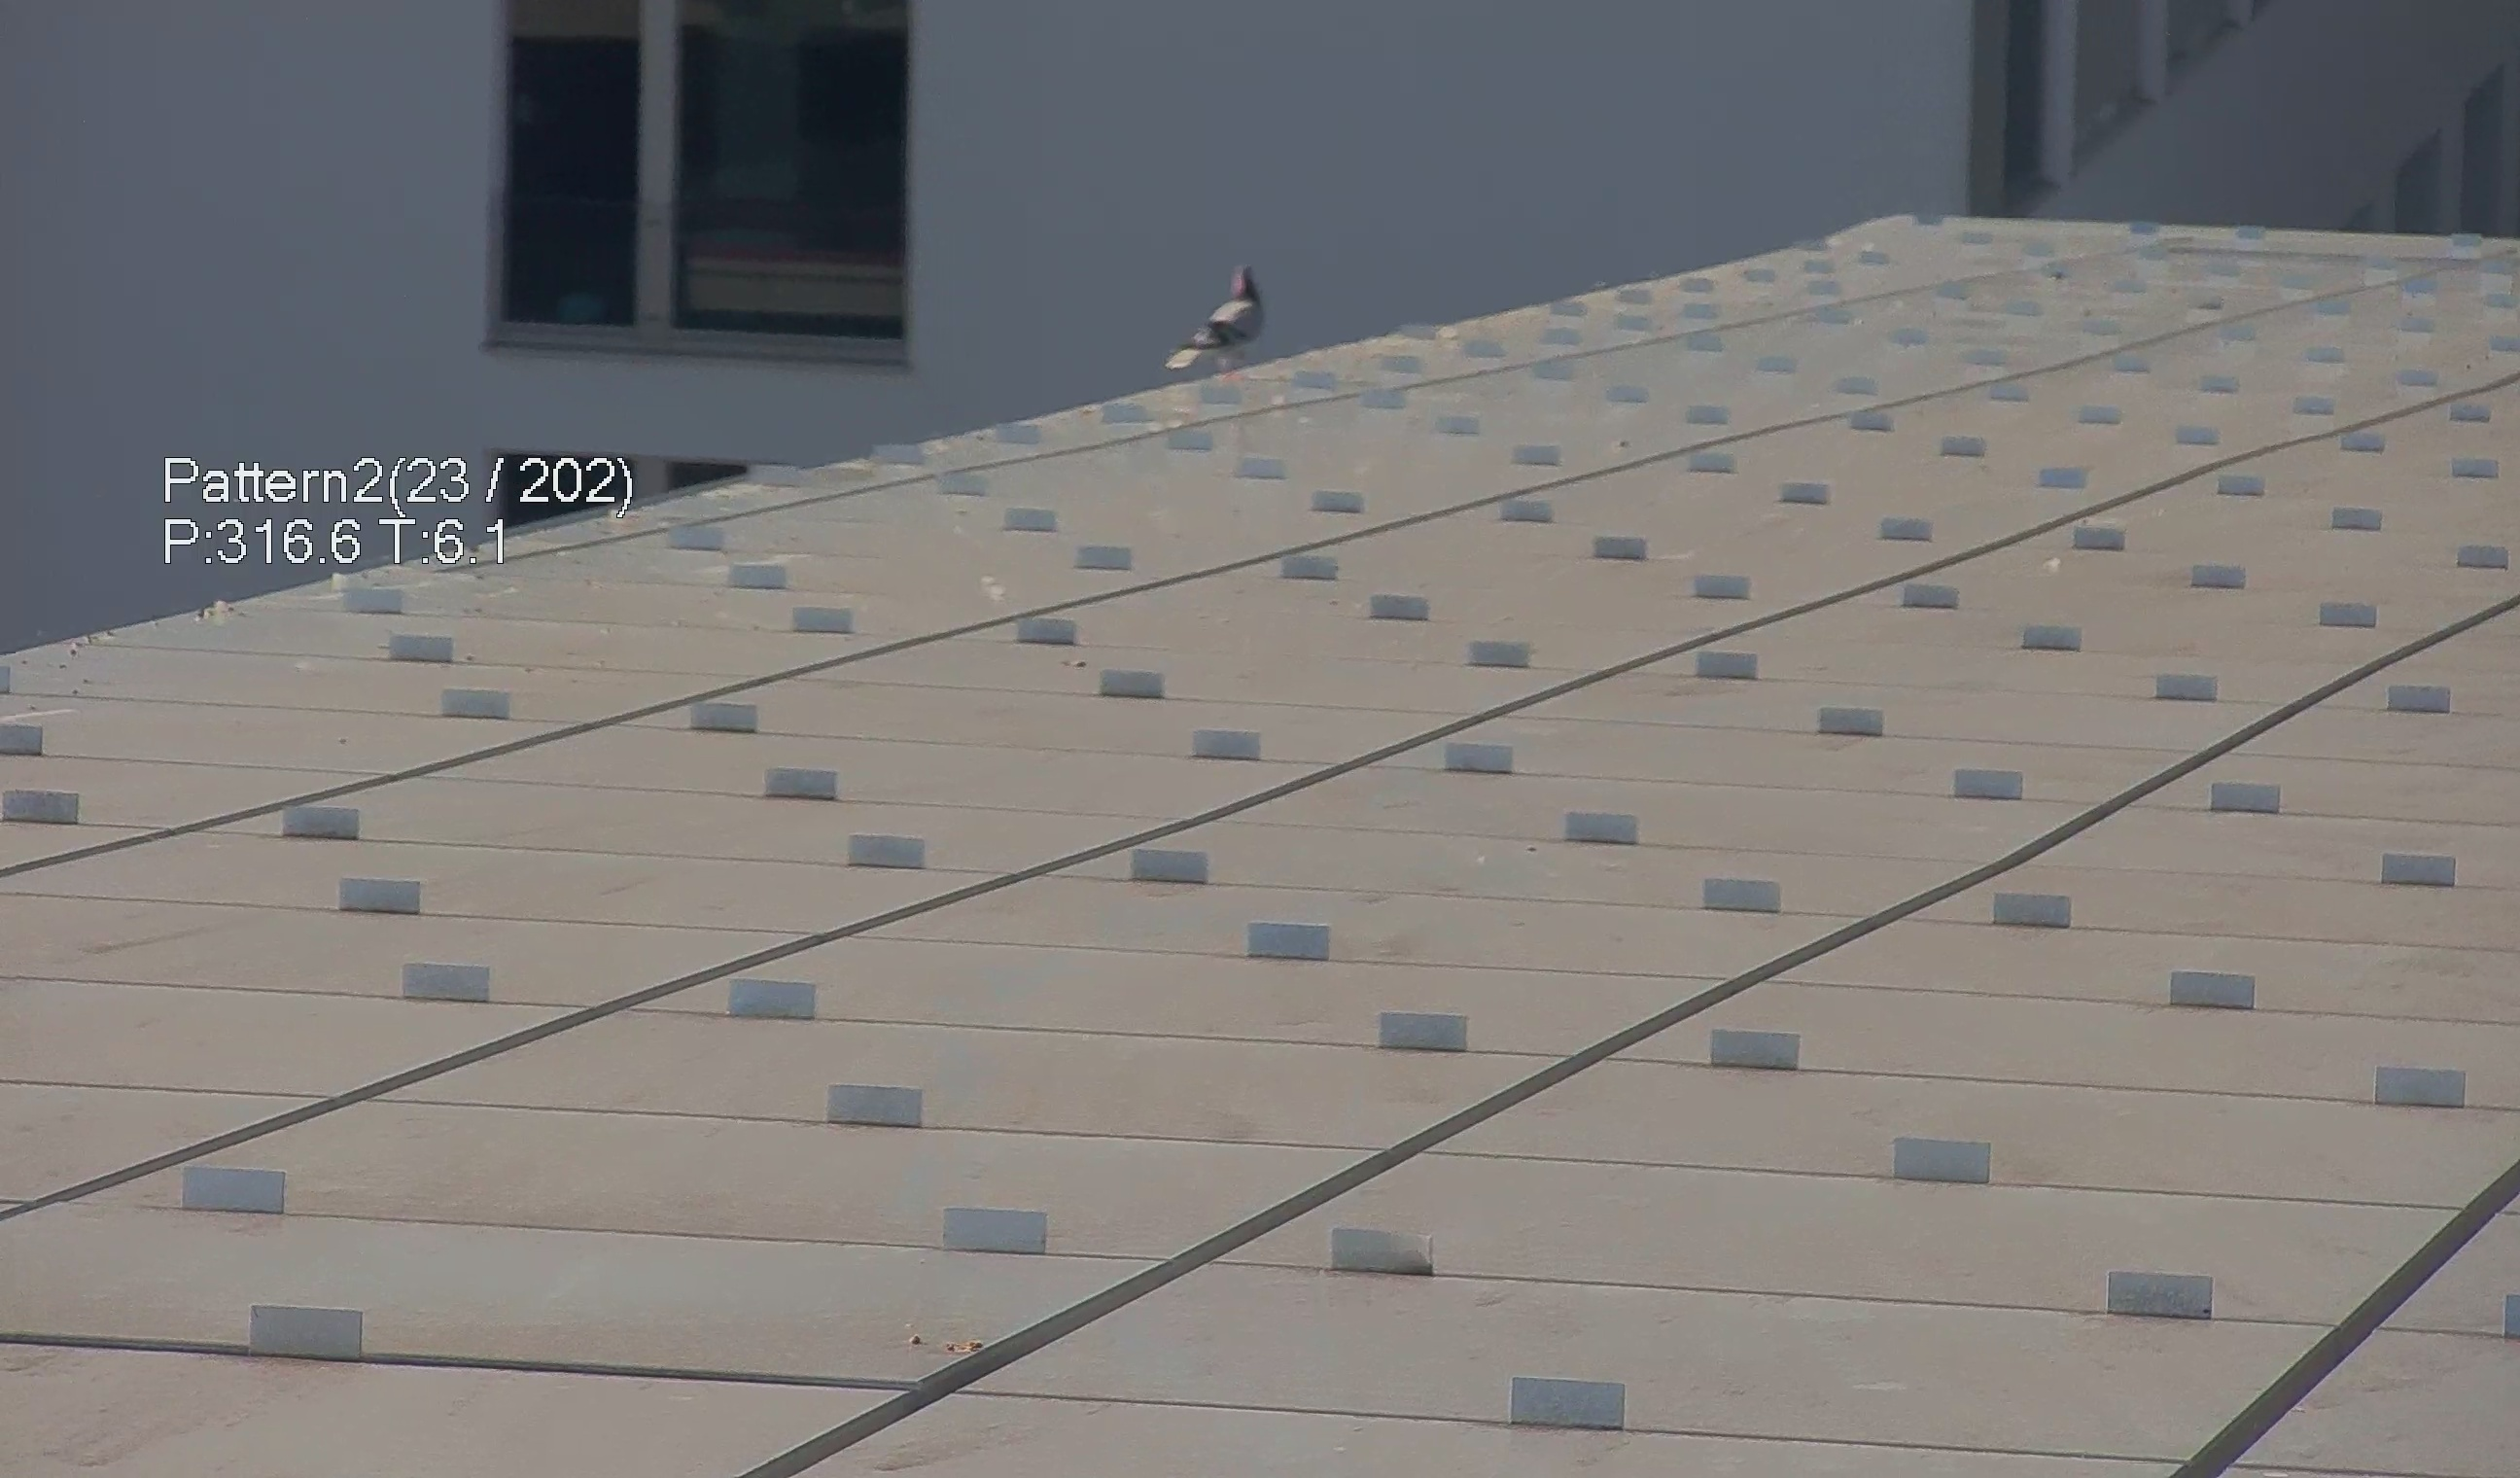Pigeon: (1161, 264, 1268, 387)
